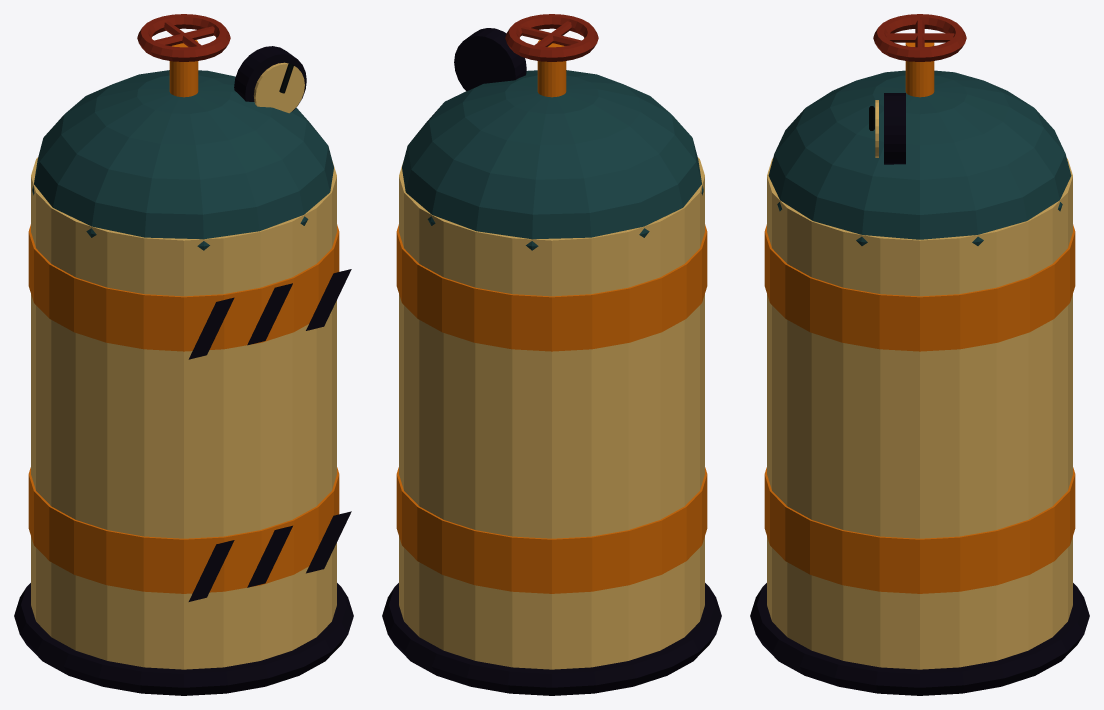
The model's file is propellant_tank_neon6.fbx.
3 renders of one model, left to right at view 1: azimuth 30°, elevation 25°; view 2: azimuth 150°, elevation 25°; view 3: azimuth 270°, elevation 25°, orthographic.
Parts seen in each view (by area): view 1: Part_2, Part_0, Part_1; view 2: Part_2, Part_0, Part_1; view 3: Part_2, Part_0, Part_1.
Part boxes in pixels (x1,y1,x2,y2): Part_2: (14,194,353,695); Part_0: (28,138,351,669); Part_1: (39,14,328,214); Part_2: (382,194,721,695); Part_0: (396,138,707,669); Part_1: (407,14,696,214); Part_2: (750,194,1089,695); Part_0: (764,154,1075,669); Part_1: (774,14,1065,214).
Bounding box in the file's own units: 1.45 × 2.8 × 1.45.
